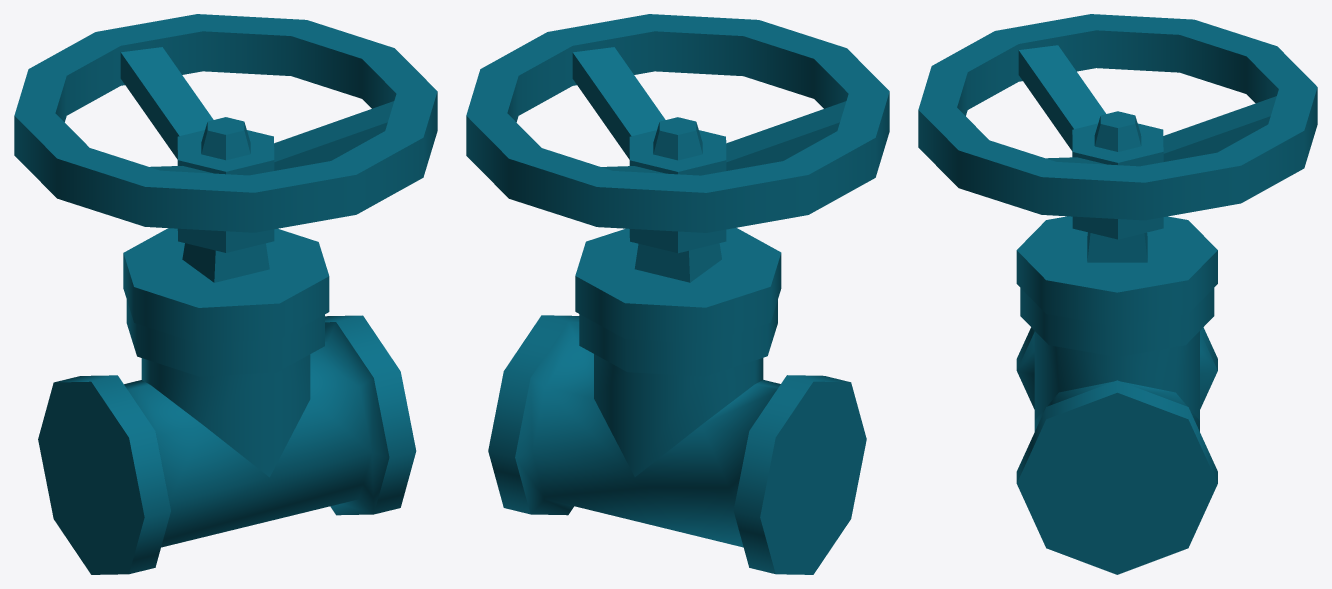
The model's file is Valve_A_Snaps004.FBX.
3 views of the same model, side by side, from view 1: azimuth 30°, elevation 25°; view 2: azimuth 150°, elevation 25°; view 3: azimuth 270°, elevation 25° (orthographic). The views are drawn at different scales.
Visible parts, largest first — view 1: Geometry_Valve_A_LOD00; view 2: Geometry_Valve_A_LOD00; view 3: Geometry_Valve_A_LOD00.
Boxes of the visible parts, left/top/right/bottom form: Geometry_Valve_A_LOD00: left=14, top=14, right=437, bottom=574; Geometry_Valve_A_LOD00: left=466, top=14, right=889, bottom=574; Geometry_Valve_A_LOD00: left=918, top=14, right=1317, bottom=574.
Size of what is drawn, in the model's own units: 7.78 by 8.89 by 7.78.
